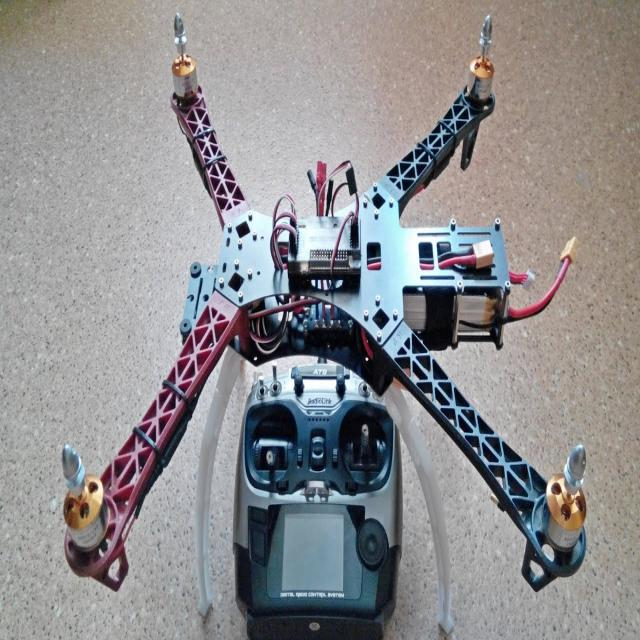drone: (22, 24, 610, 640)
